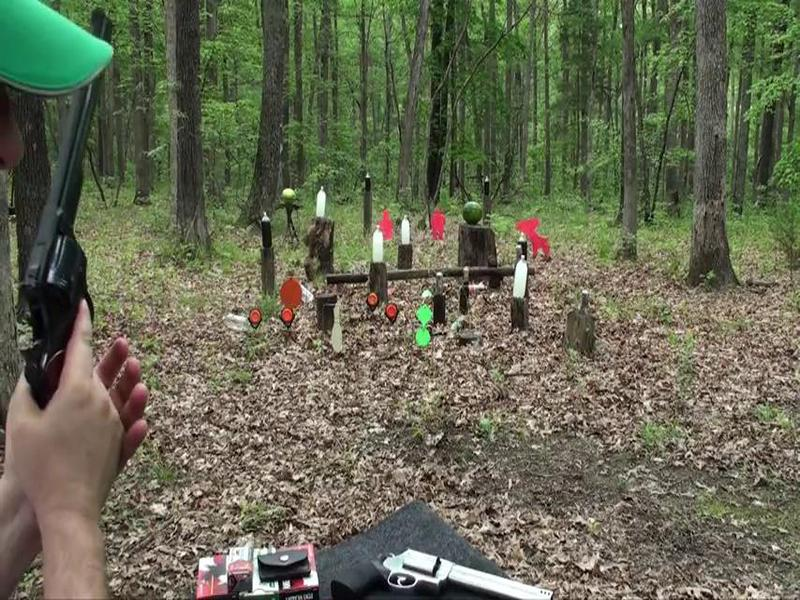Revolver: (11, 1, 142, 445)
